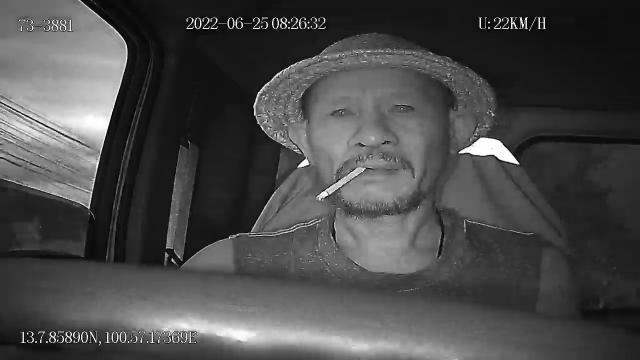SafeDriving: (381, 92, 423, 120), (324, 98, 362, 122)
Smoking: (317, 166, 367, 204)
